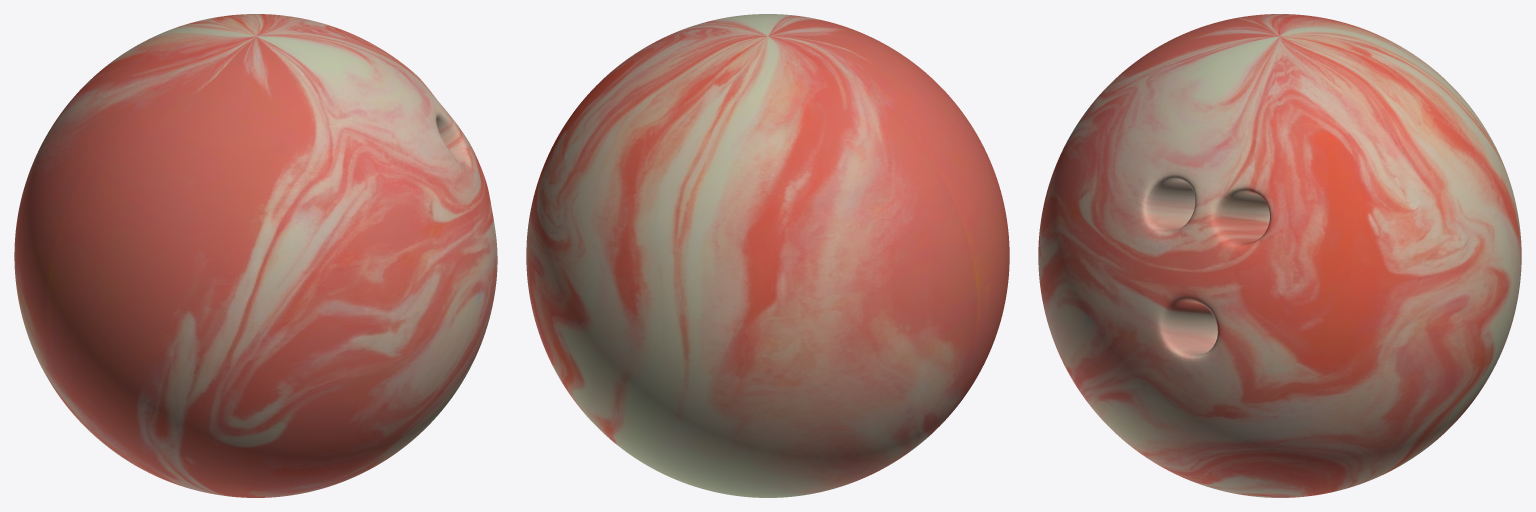
Rendered from bowling ball1.fbx.
3 renders of one model, left to right at view 1: azimuth 30°, elevation 25°; view 2: azimuth 150°, elevation 25°; view 3: azimuth 270°, elevation 25°, orthographic.
Parts seen in each view (by area): view 1: Sphere; view 2: Sphere; view 3: Sphere.
Boxes of the visible parts, left/top/right/bottom form: Sphere: left=14, top=14, right=497, bottom=497; Sphere: left=526, top=14, right=1009, bottom=497; Sphere: left=1038, top=14, right=1521, bottom=497.
Size of the model in its own units: 199 by 200 by 199.
Materials: 1 (1 with a texture image).
